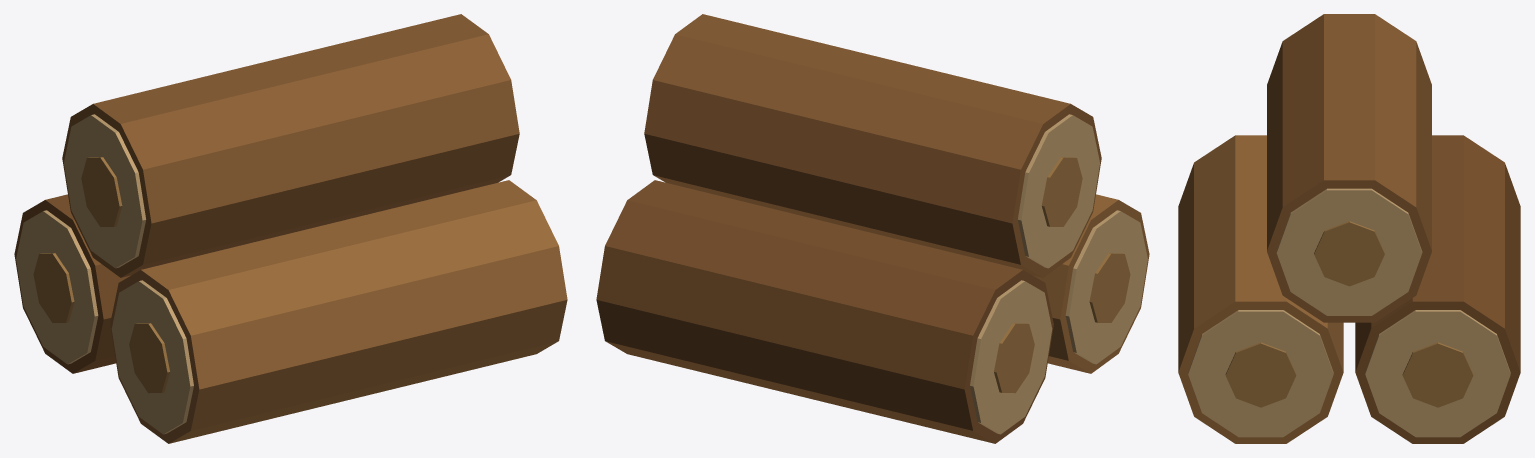
File: prop_logpile.glb
The picture shows the model from 3 angles, left to right: view 1: azimuth 30°, elevation 25°; view 2: azimuth 150°, elevation 25°; view 3: azimuth 270°, elevation 25°; orthographic projection. The views are drawn at different scales.
Visible parts, largest first — view 1: logpile; view 2: logpile; view 3: logpile.
Boxes of the visible parts, x1=… form: logpile: x1=14, y1=14, x2=567, y2=443; logpile: x1=596, y1=14, x2=1149, y2=443; logpile: x1=1178, y1=14, x2=1520, y2=443.
Bounding box in the file's own units: 2.07 × 1.48 × 1.74.
